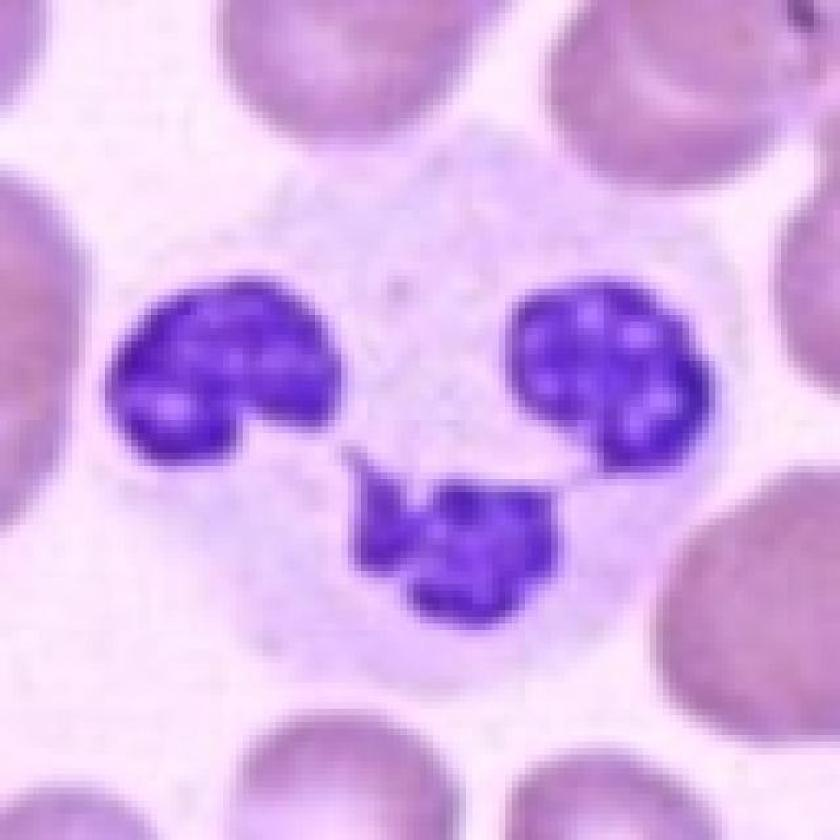neutrophil: (128, 106, 697, 686)
